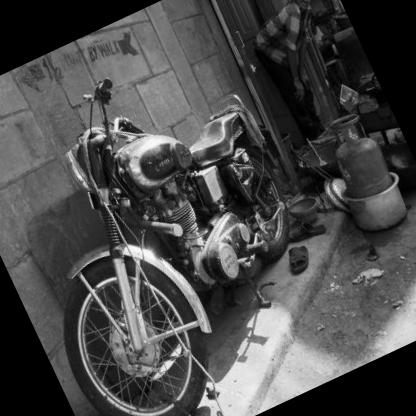moto: (1, 31, 371, 416)
